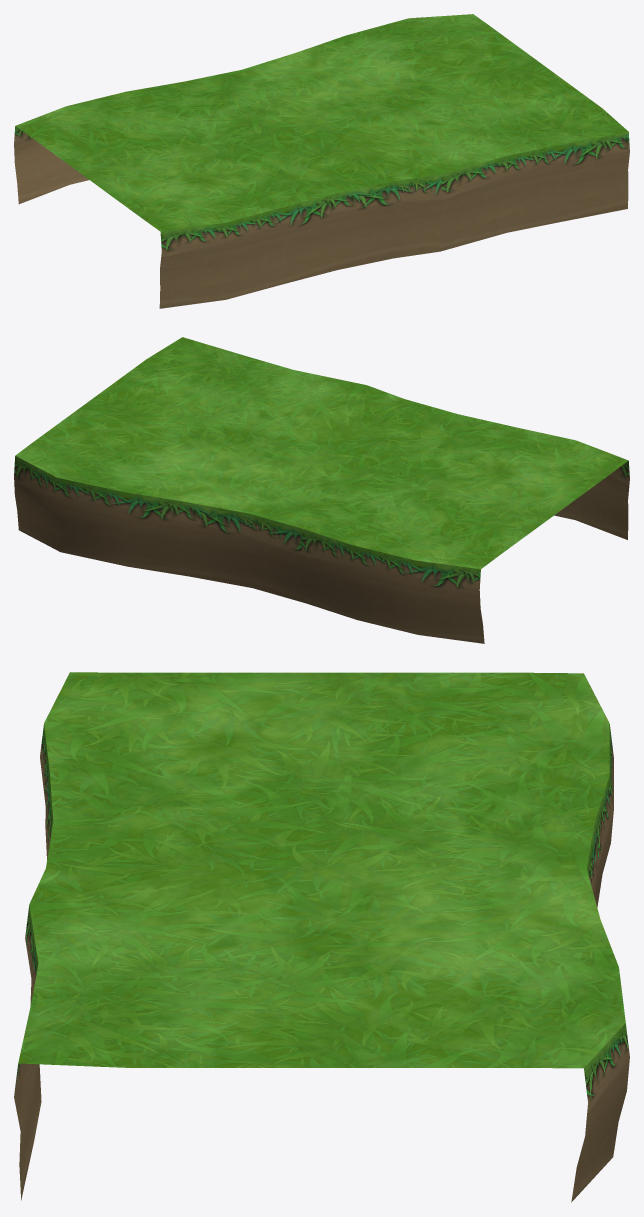
File: hub_tot_plat_03.FBX
The picture shows the model from 3 angles, top to bottom: view 1: azimuth 30°, elevation 25°; view 2: azimuth 150°, elevation 25°; view 3: azimuth 270°, elevation 25°; orthographic projection. The views are drawn at different scales.
Parts seen in each view (by area): view 1: toturial_plat_03, toturial_plat_03_cliff; view 2: toturial_plat_03, toturial_plat_03_cliff; view 3: toturial_plat_03, toturial_plat_03_cliff.
Part boxes in pixels (x1,y1,x2,y2): toturial_plat_03: (15, 14, 628, 231); toturial_plat_03_cliff: (14, 126, 629, 308); toturial_plat_03: (15, 337, 628, 569); toturial_plat_03_cliff: (14, 456, 629, 643); toturial_plat_03: (18, 672, 625, 1068); toturial_plat_03_cliff: (14, 724, 629, 1202).
Size of the model in its own units: 2518 by 1659 by 409.
